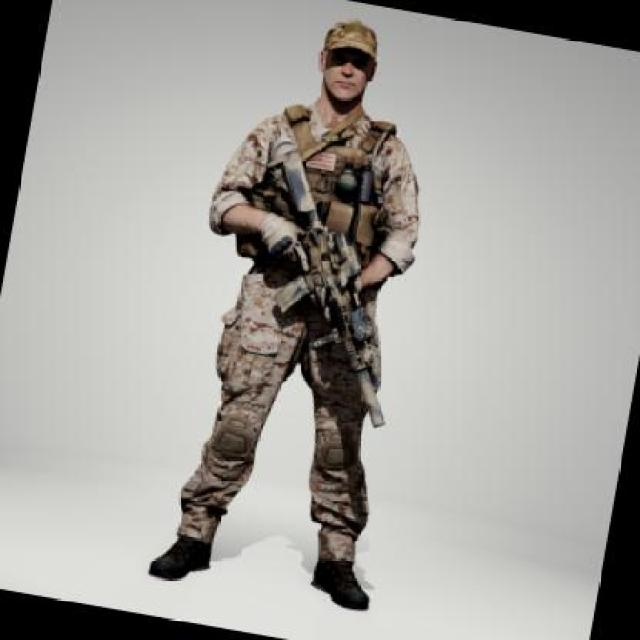MIL_Pax: (136, 0, 476, 622)
